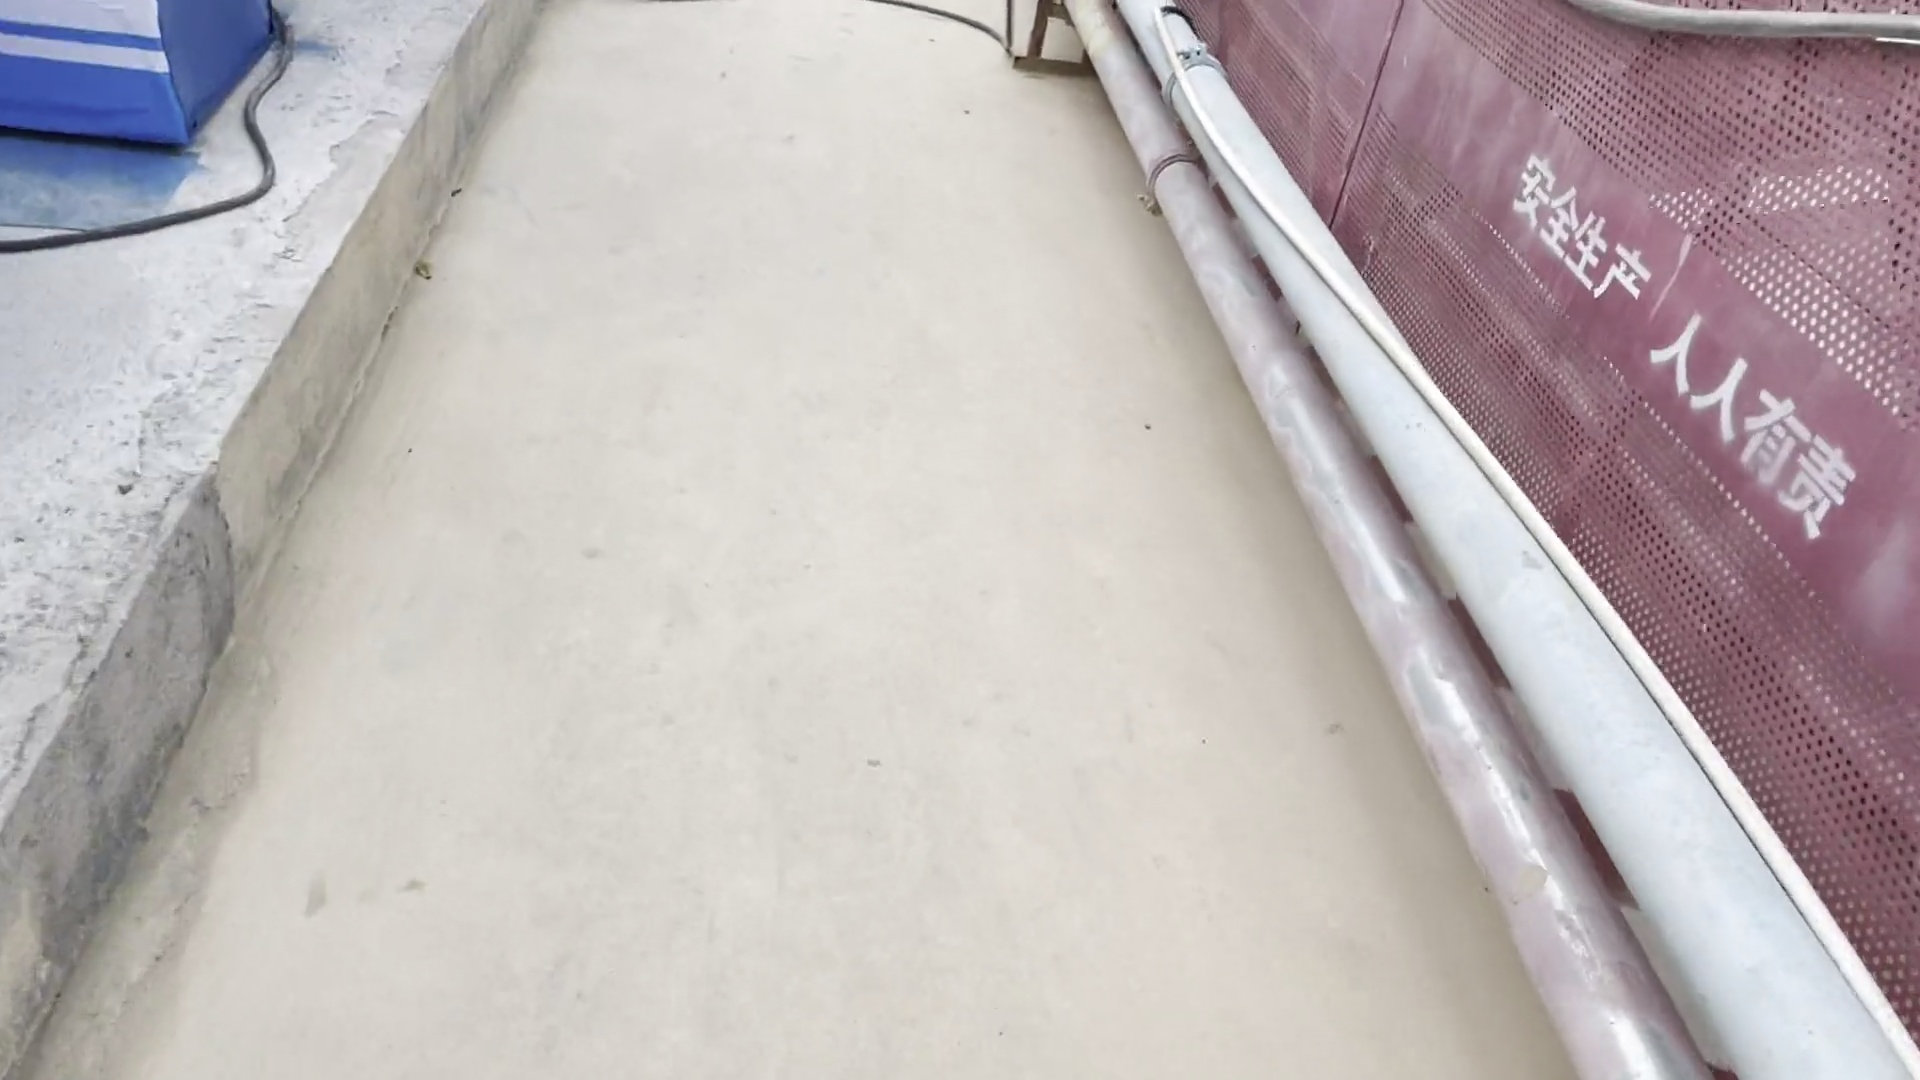fence: (1435, 7, 1920, 756)
